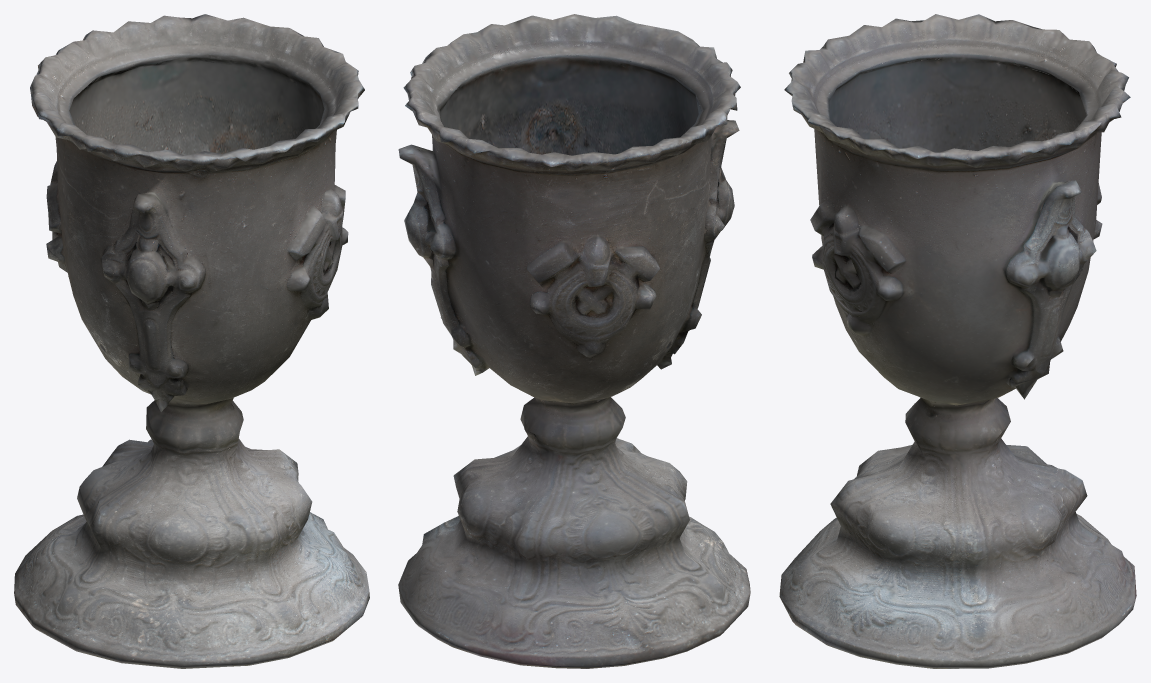
File: sm_OldCup_01_01.fbx
3 renders of one model, left to right at view 1: azimuth 30°, elevation 25°; view 2: azimuth 150°, elevation 25°; view 3: azimuth 270°, elevation 25°, orthographic.
Visible parts, largest first — view 1: sm_OldCup_01_01_LOD0; view 2: sm_OldCup_01_01_LOD0; view 3: sm_OldCup_01_01_LOD0.
Boxes of the visible parts, x1,y1,x2,y2 form: sm_OldCup_01_01_LOD0: (14,14,369,668); sm_OldCup_01_01_LOD0: (398,14,750,668); sm_OldCup_01_01_LOD0: (779,14,1136,668).
Size of the model in its own units: 24.67 by 24.66 by 39.4.
